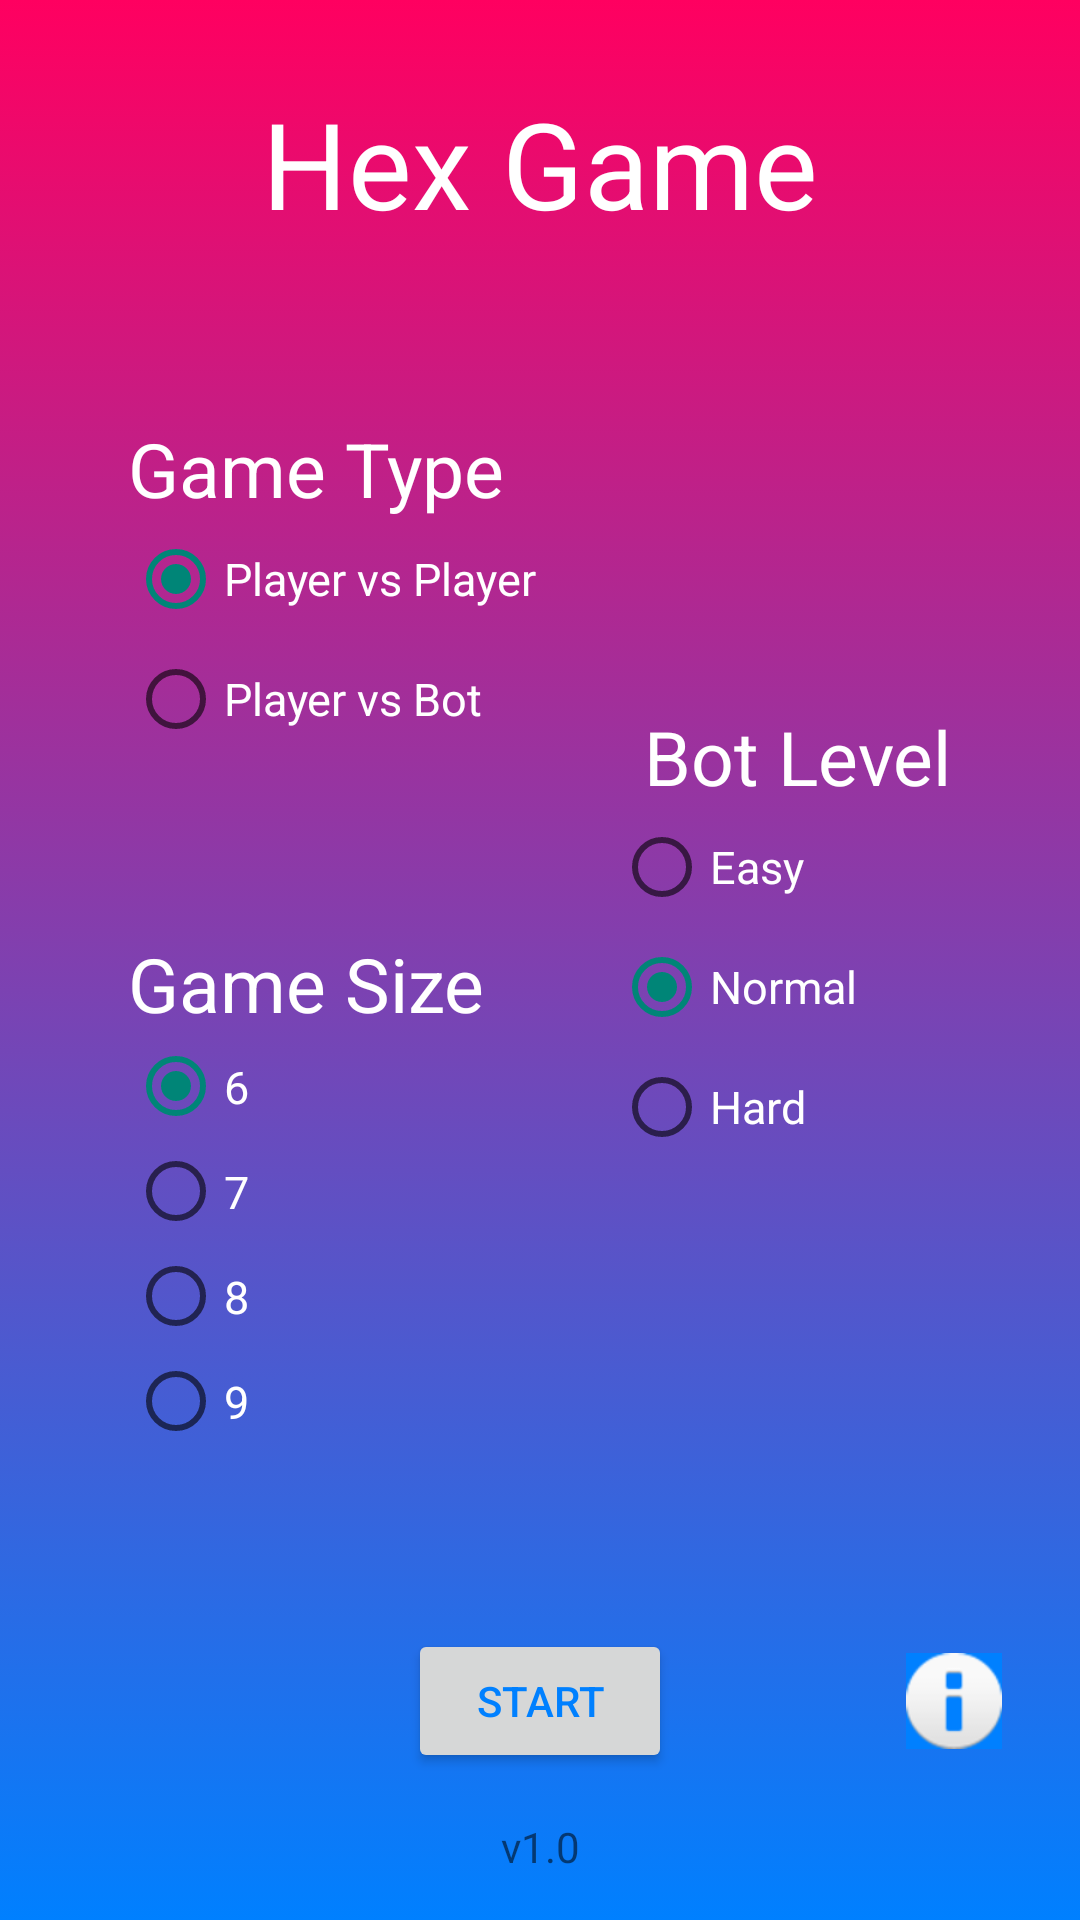

Screen size 1080 × 1920. Icon name, then its box in pixels as (x1, y1, x2, y2):
info: (906, 1653, 1002, 1749)
